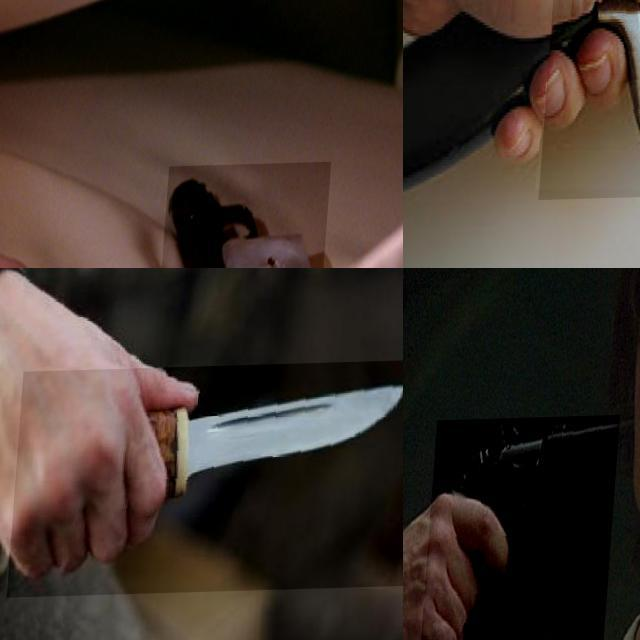-: (14, 363, 403, 598), (546, 0, 640, 234)
gun-knife-thesis - v11 Yolov5 augmented: (428, 416, 625, 640), (161, 164, 336, 268)
